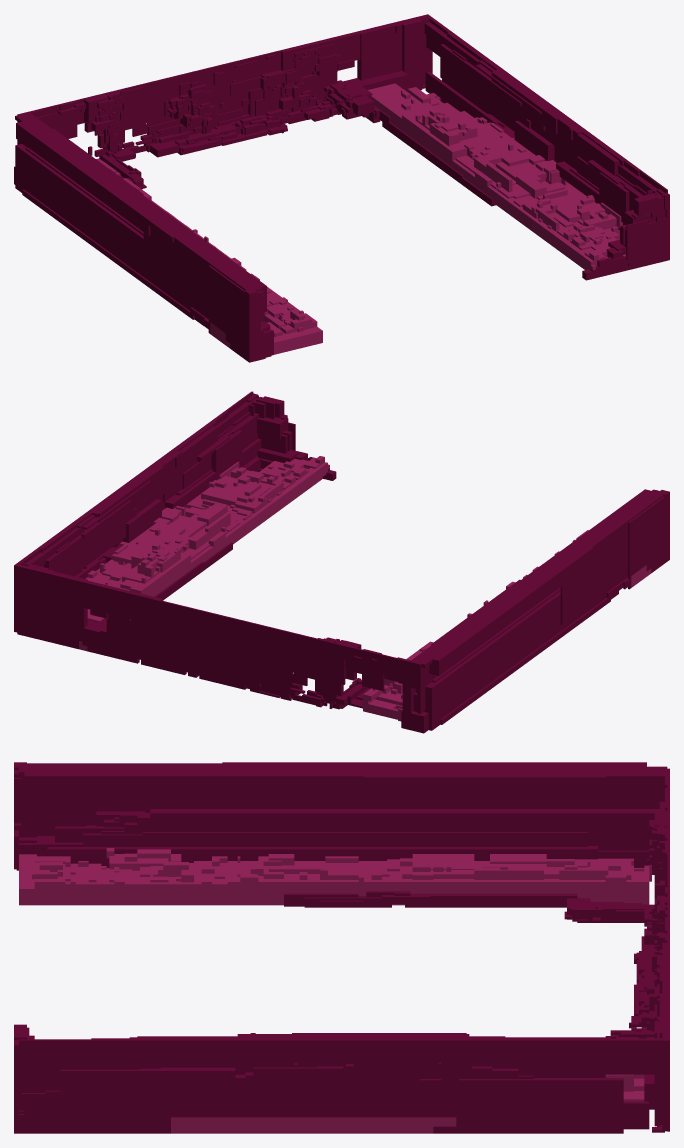
File: ZonaMundoPelea-4-Bordes.obj
3 views of the same model, one above another, from view 1: azimuth 30°, elevation 25°; view 2: azimuth 150°, elevation 25°; view 3: azimuth 270°, elevation 25° (orthographic). The views are drawn at different scales.
Parts seen in each view (by area): view 1: Bordes; view 2: Bordes; view 3: Bordes.
Part boxes in pixels (x1,y1,x2,y2): Bordes: [14, 14, 669, 362]; Bordes: [14, 391, 669, 733]; Bordes: [14, 762, 669, 1133].
Size of the model in its own units: 25.6 by 4 by 25.5.
1 material, 1 textured.
